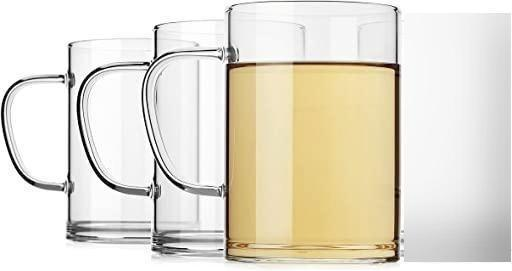glass-mug: (143, 1, 405, 271), (0, 37, 206, 251), (79, 16, 225, 254)
